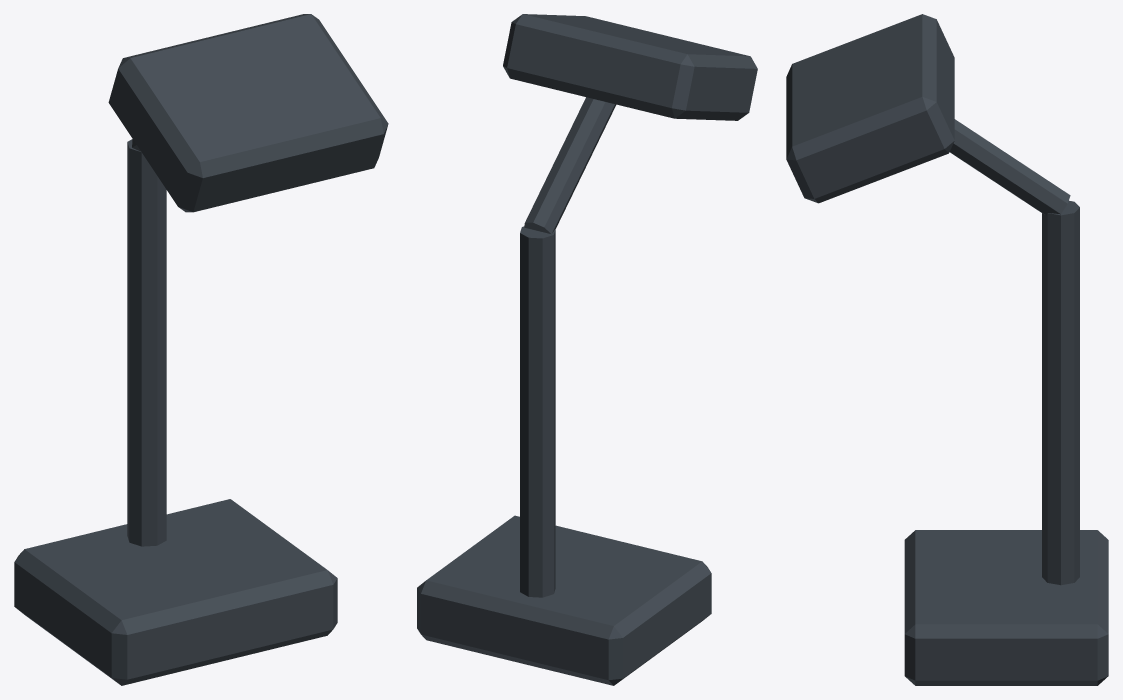
File: DeskLamp.fbx
3 renders of one model, left to right at view 1: azimuth 30°, elevation 25°; view 2: azimuth 150°, elevation 25°; view 3: azimuth 270°, elevation 25°, orthographic. The views are drawn at different scales.
Parts seen in each view (by area): view 1: DeskLamp; view 2: DeskLamp; view 3: DeskLamp.
Boxes of the visible parts, x1,y1,x2,y2 form: DeskLamp: [14, 14, 388, 685]; DeskLamp: [417, 14, 757, 685]; DeskLamp: [786, 14, 1108, 685].
Size of the model in its own units: 18 by 47.33 by 23.69.
1 material, 1 textured.
